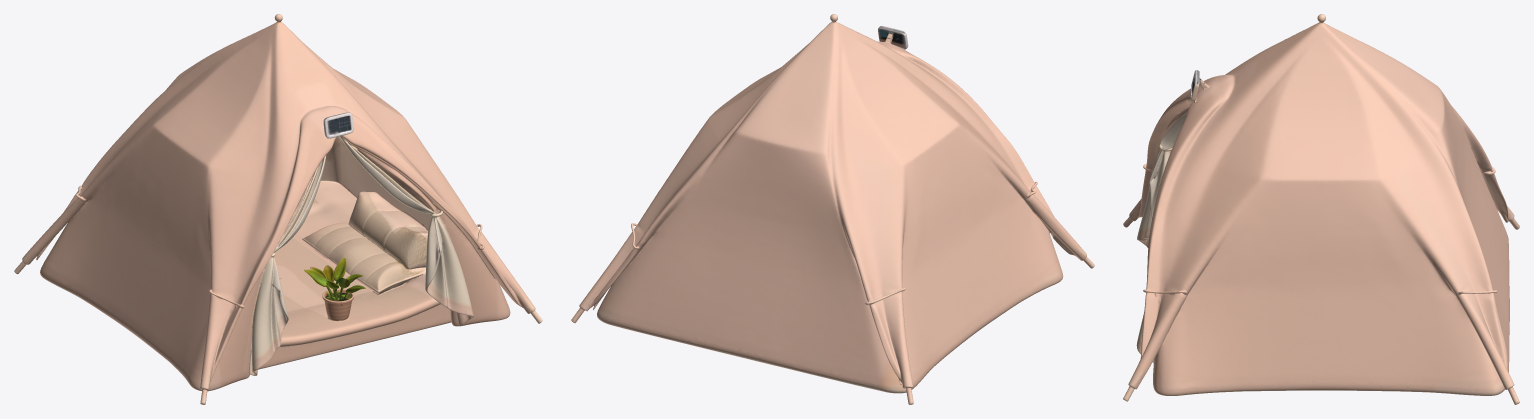
File: Style2_Tent.glb
The picture shows the model from 3 angles, left to right: view 1: azimuth 30°, elevation 25°; view 2: azimuth 150°, elevation 25°; view 3: azimuth 270°, elevation 25°; orthographic projection. The views are drawn at different scales.
Bounding box in the file's own units: 1.89 × 1.49 × 1.77.
1 material, 1 textured.
